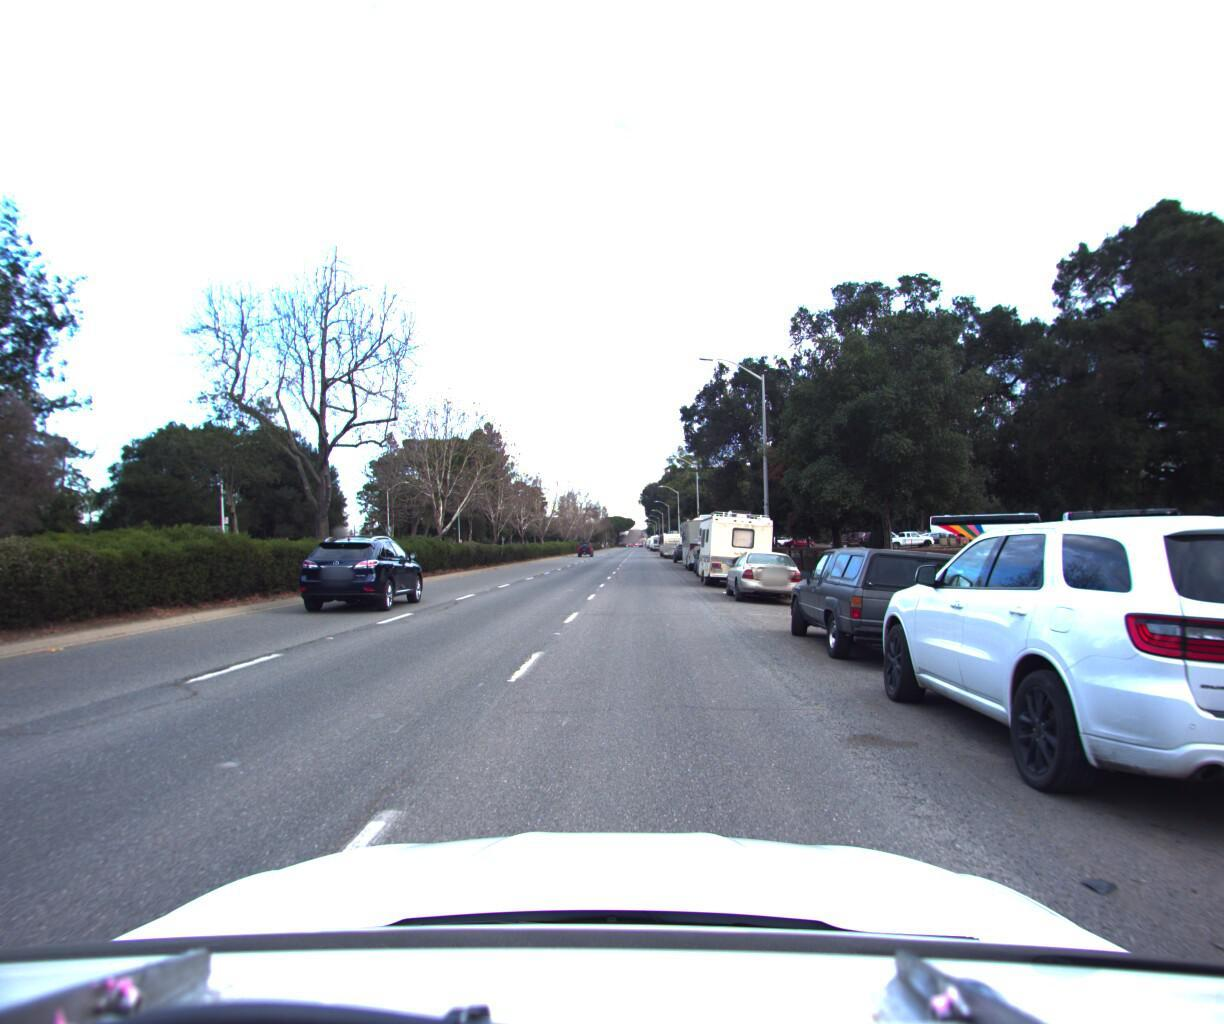car: (848, 501, 1224, 872), (770, 537, 1012, 668), (292, 531, 428, 614), (713, 544, 803, 603), (667, 542, 700, 562)
other_vehicle: (687, 501, 783, 584), (674, 505, 738, 568), (656, 526, 685, 554)
